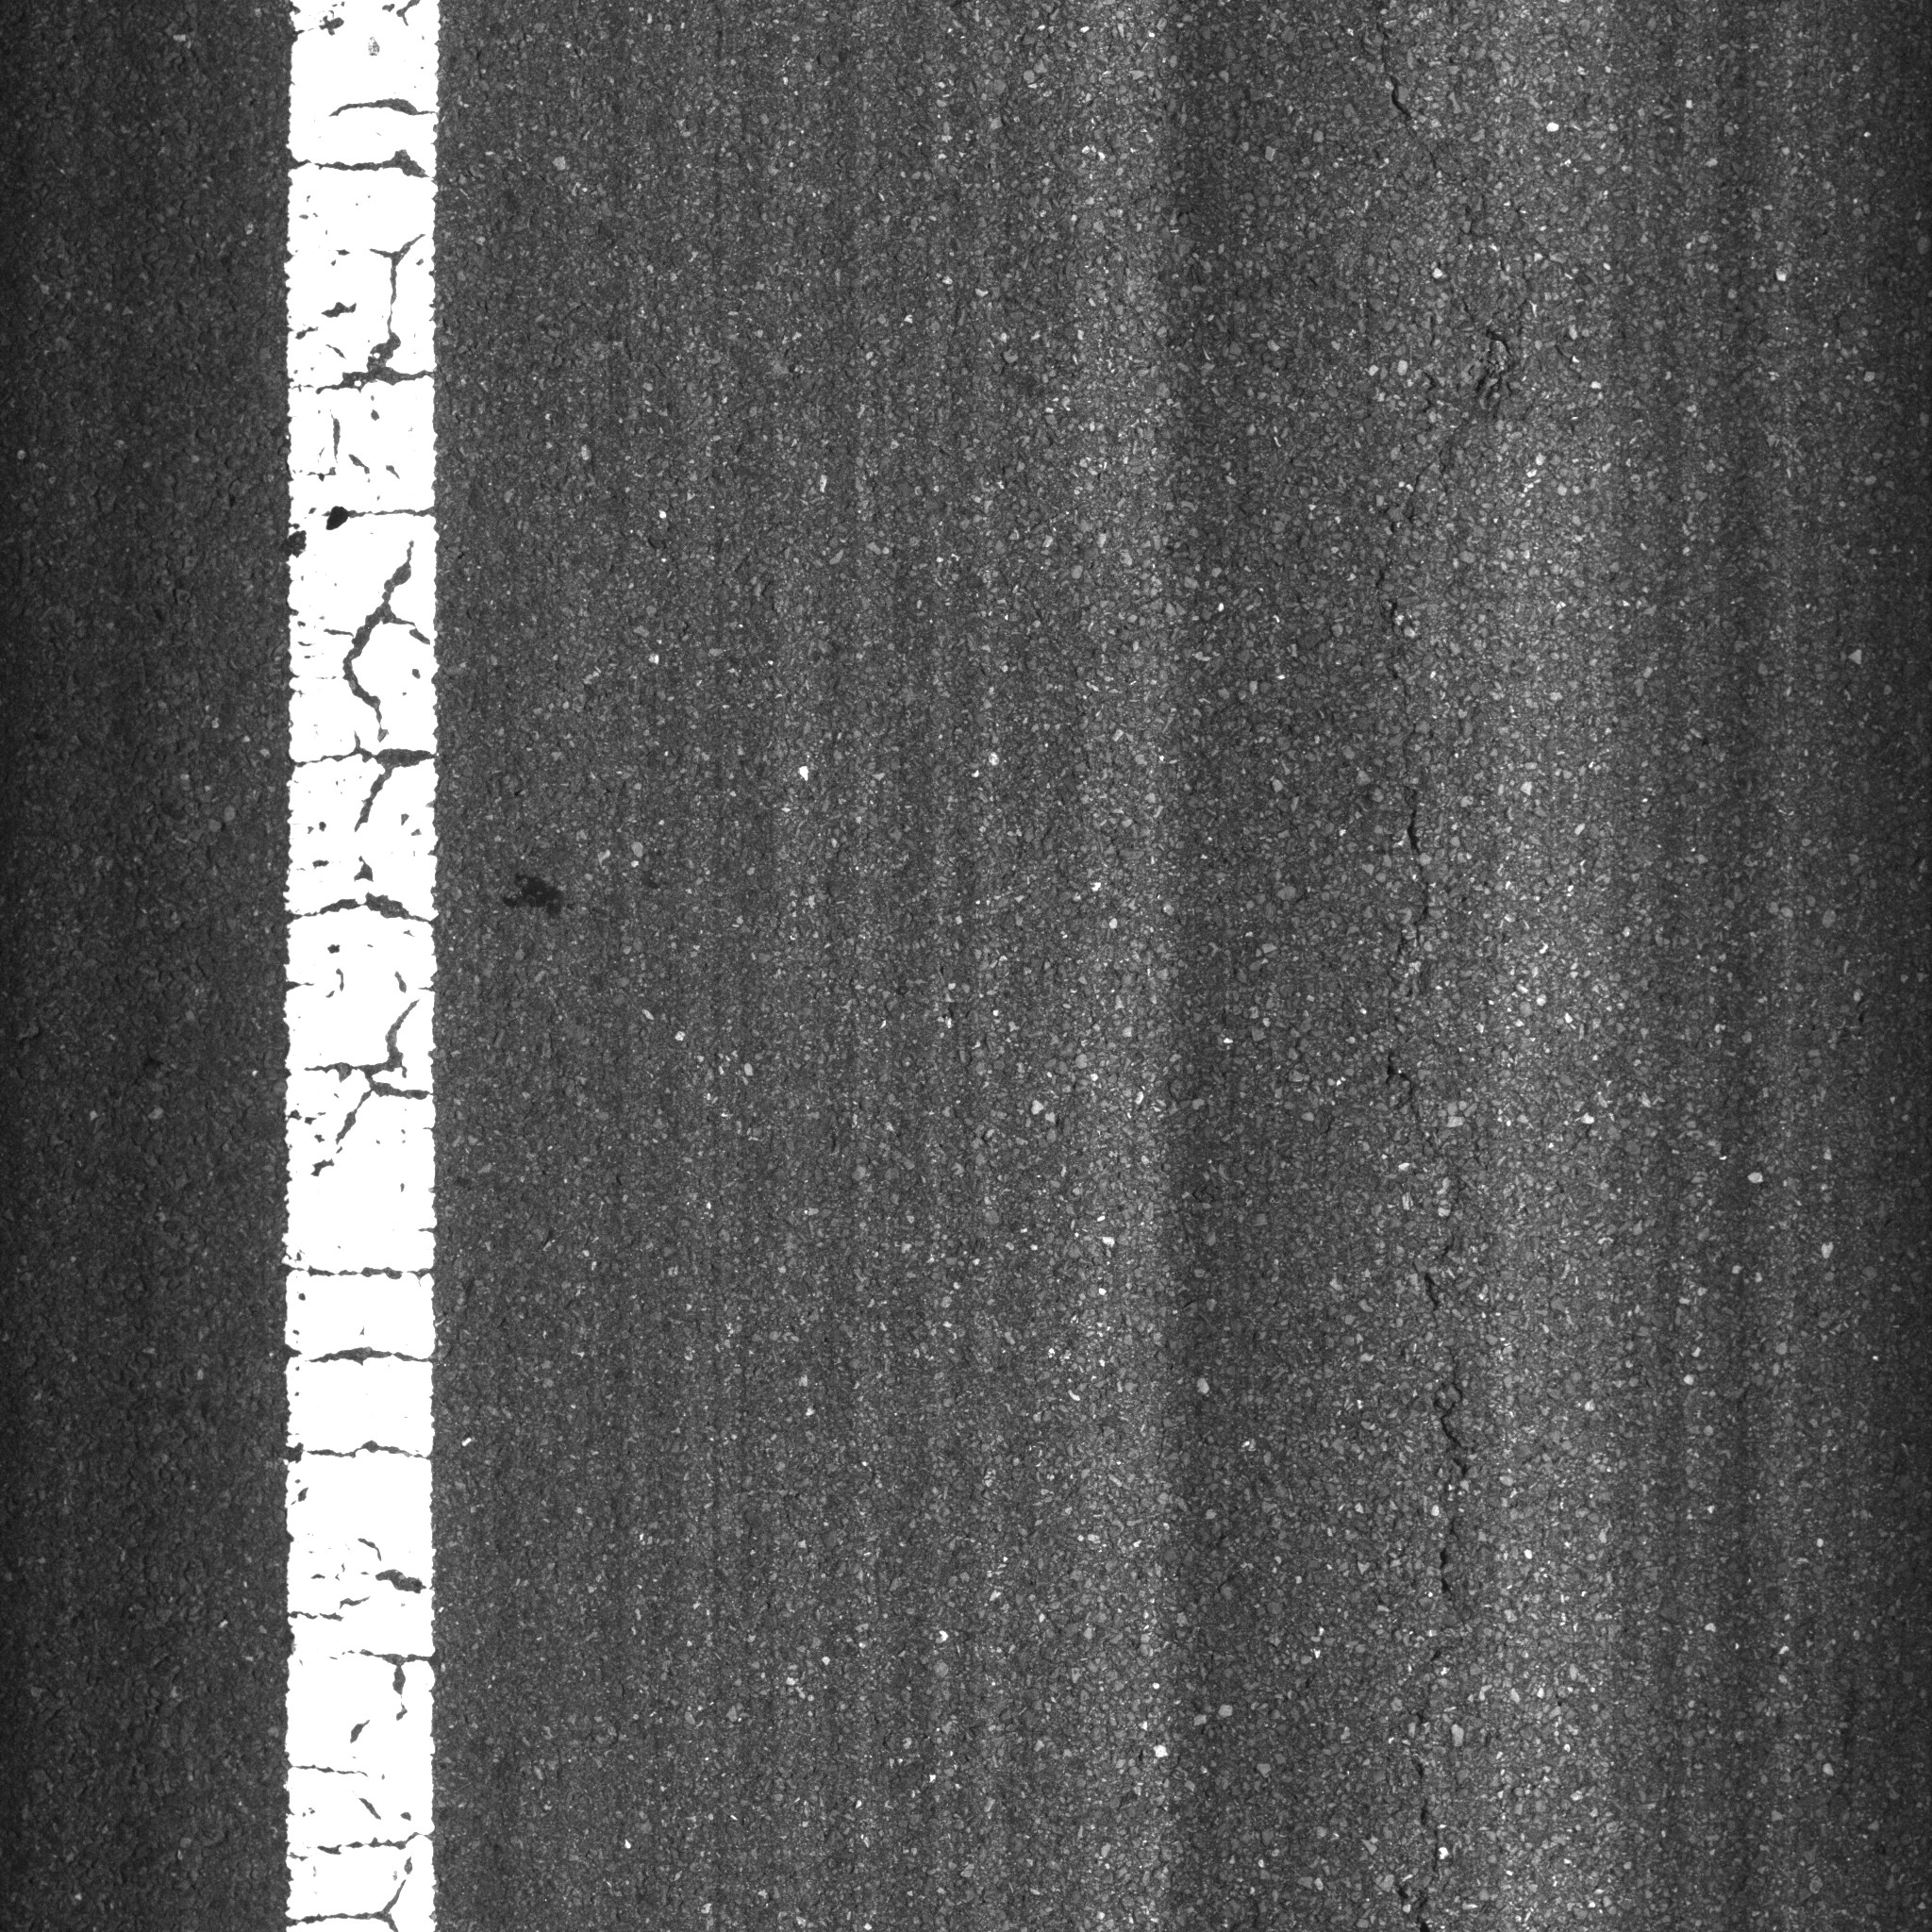longitudinal: (1307, 11, 1571, 1905)
